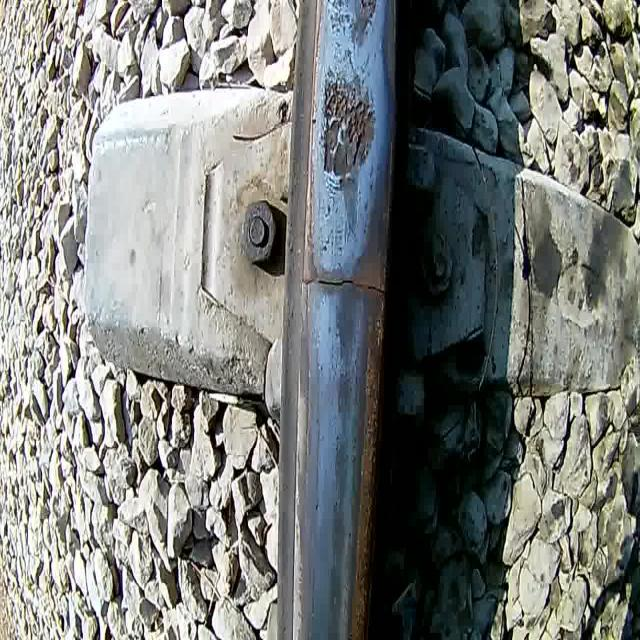Cracks: (332, 41, 373, 85), (333, 307, 345, 417), (350, 340, 364, 416), (321, 168, 347, 202), (341, 207, 358, 250), (332, 431, 340, 496)
Spallings: (321, 72, 374, 182), (292, 262, 394, 310), (324, 0, 354, 39), (357, 0, 378, 35)
Squats: (318, 51, 380, 243), (321, 0, 382, 50), (321, 557, 351, 640), (331, 294, 362, 362), (323, 500, 352, 562), (330, 361, 357, 427), (330, 430, 354, 500)
